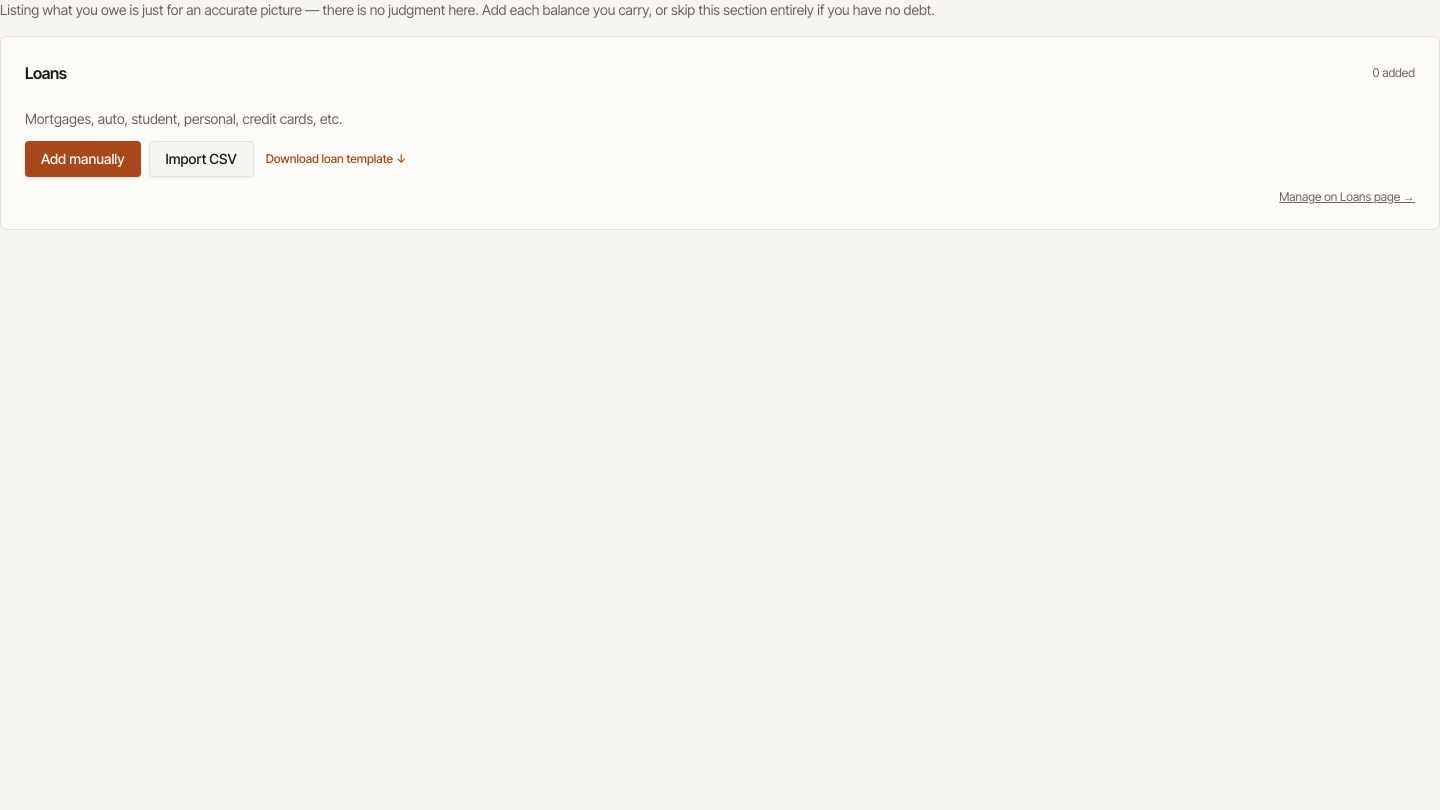
Test: Section3_WhatYouOwe › clicking Add manually on the Loans card opens the LoanForm dialog
The image size is (1440, 810).
Click the button "Add manually". click: (83, 159)
box: [25,141,140,177]
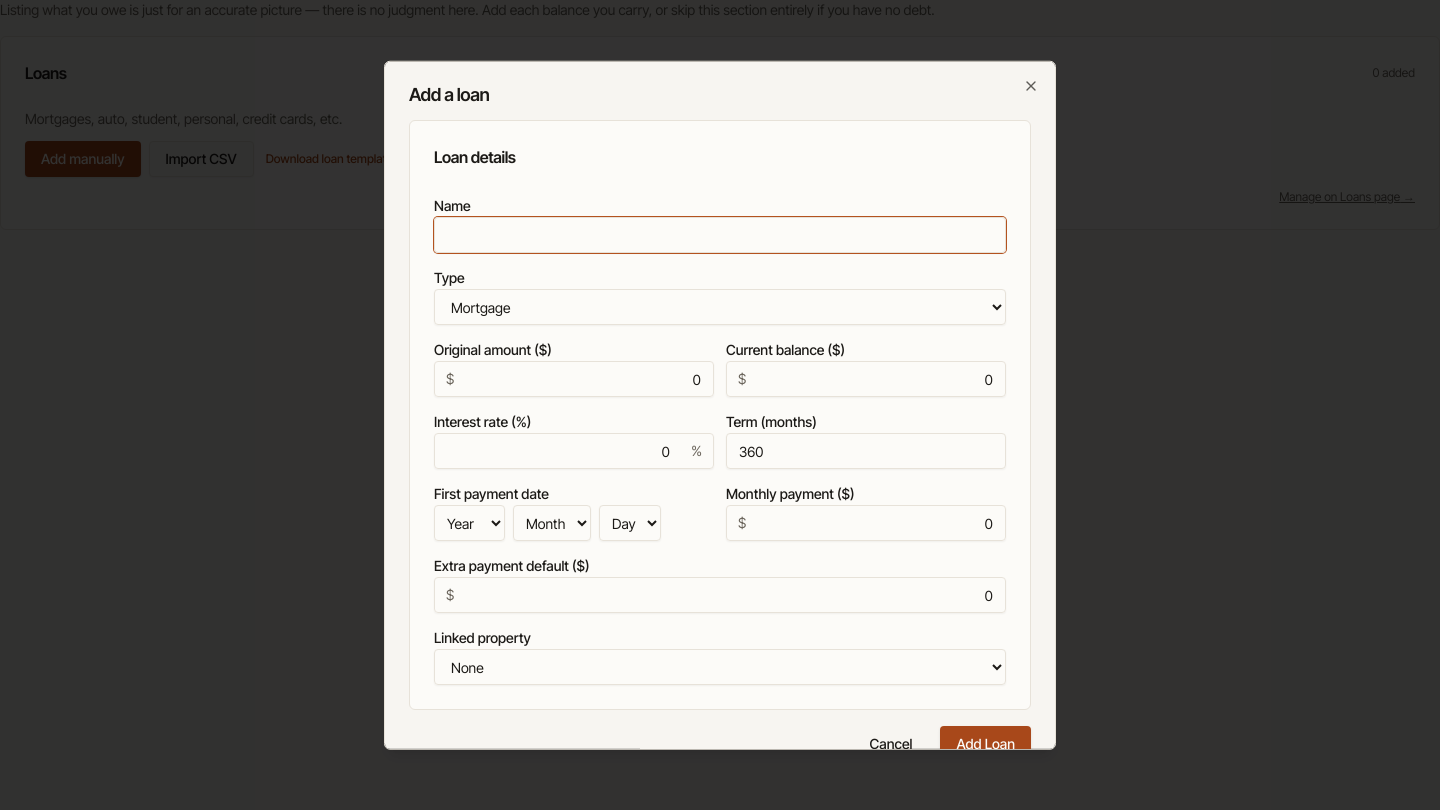
Check: the button "Add Loan" is shown, box [940,726,1031,749]
